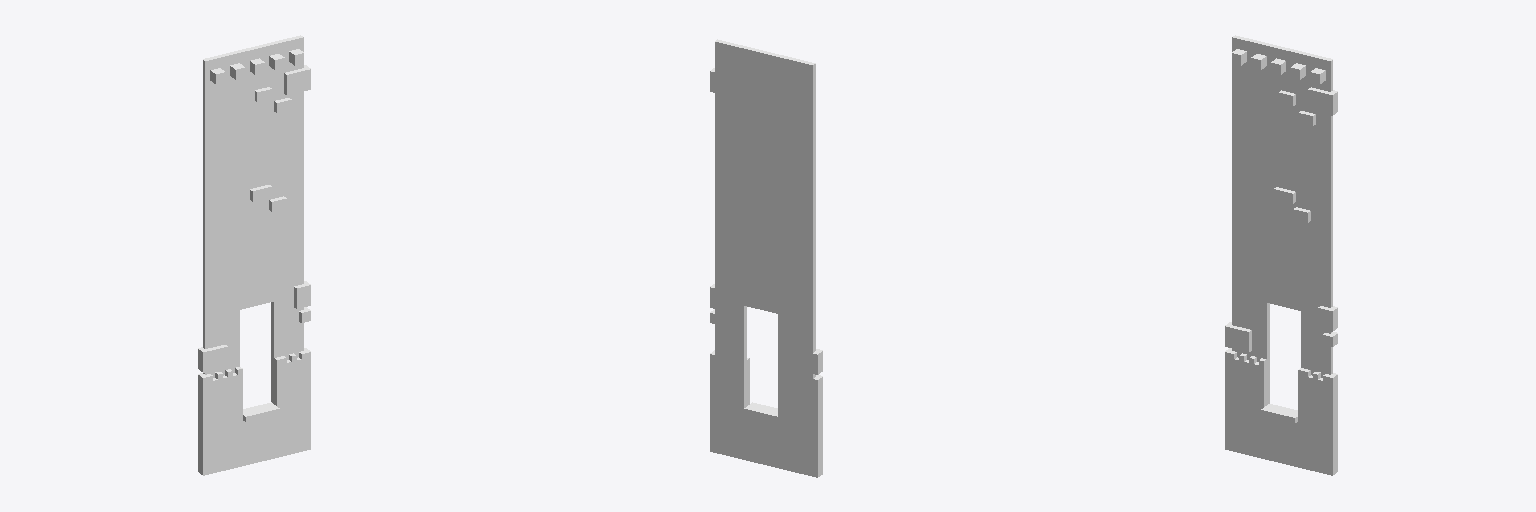
Rendered from TallBuilding01-3.obj.
The picture shows the model from 3 angles: view 1: azimuth 30°, elevation 25°; view 2: azimuth 150°, elevation 25°; view 3: azimuth 330°, elevation 25°; orthographic projection.
Visible parts, largest first — view 1: object 1; view 2: object 1; view 3: object 1.
Part boxes in pixels (x1,y1,x2,y2): object 1: (198, 35, 310, 475); object 1: (710, 39, 822, 477); object 1: (1225, 35, 1337, 475).
Size of the model in its own units: 2.2 by 8 by 0.3.